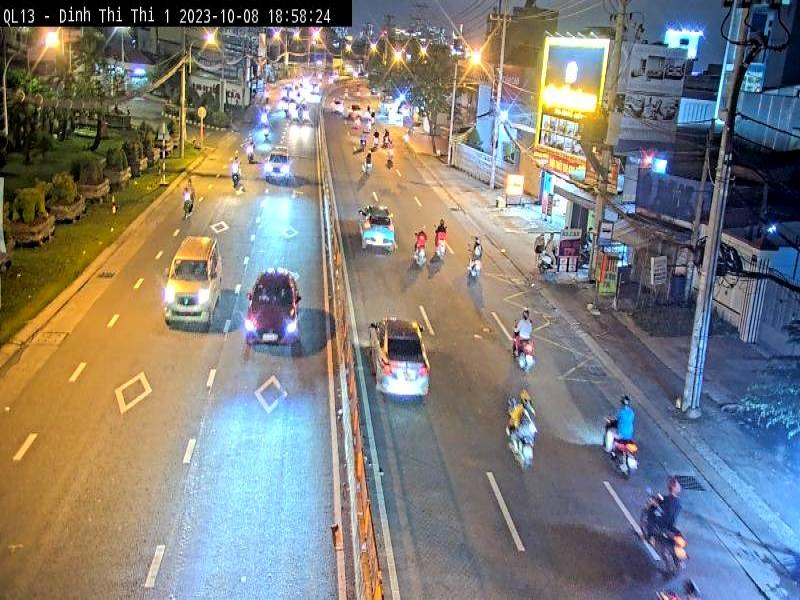car: (364, 302, 435, 427), (151, 225, 223, 336), (243, 252, 307, 358), (350, 198, 403, 262), (263, 144, 295, 199)
